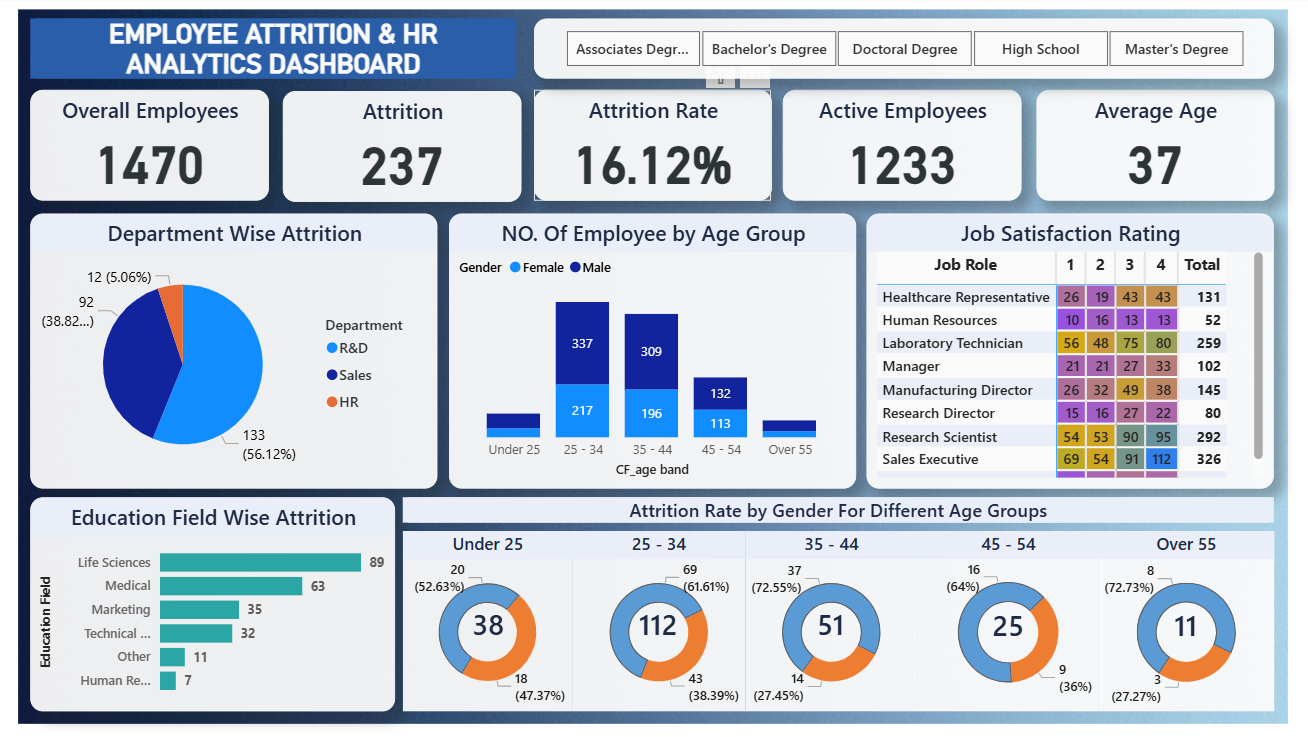

This screenshot's page, from the dashboard's own definition file:
{"tool":"powerbi","page":{"name":"Page 1","canvas":[1265,705],"ordinal":0},"visuals":[{"type":"card","title":"Overall Employees","fields":{"Values":["Sum(HR data.Employee Count)"]},"box":[43.7,88.6,225.6,105.1],"z":0},{"type":"card","title":"Attrition","fields":{"Values":["Sum(HR data.Attrition Count)"]},"box":[282.3,89.8,225.6,105.1],"z":1000},{"type":"card","title":"Attrition Rate","fields":{"Values":["HR data.Attrition Rate"]},"box":[519.8,88.6,224.4,105.1],"z":2000},{"type":"card","title":"Active Employees","fields":{"Values":["HR data.Active Employees"]},"box":[754.9,88.6,225.6,105.1],"z":3000},{"type":"card","title":"Average Age","fields":{"Values":["Avg(HR data.Age)"]},"box":[994.7,88.6,224.4,105.1],"z":4000},{"type":"pieChart","title":"Department Wise Attrition ","fields":{"Category":["HR data.Department"],"Y":["Sum(HR data.Attrition Count)"]},"box":[43.7,205.5,385.1,259.9],"z":5000},{"type":"columnChart","title":"NO. Of  Employee by Age Group","fields":{"Category":["HR data.CF_age band"],"Y":["Sum(HR data.Employee Count)"],"Series":["HR data.Gender"]},"box":[439.4,205.5,385.1,259.9],"z":6000},{"type":"pivotTable","title":"Job Satisfaction Rating","fields":{"Rows":["HR data.Job Role"],"Columns":["HR data.Job Satisfaction"],"Values":["Sum(HR data.Employee Count)"]},"box":[834,205.5,385.1,259.9],"z":7000},{"type":"barChart","title":"Education Field Wise Attrition  ","fields":{"Category":["HR data.Education Field"],"Y":["Sum(HR data.Attrition Count)"]},"box":[43.7,473.7,344.9,202],"z":8000},{"type":"donutChart","title":"Under 25","fields":{"Category":["HR data.Gender"],"Y":["Sum(HR data.Attrition Count)"],"Series":["HR data.CF_age band"]},"box":[395.7,505.6,160.7,170.1],"z":9000},{"type":"textbox","title":"Attrition Rate by Gender For Different Age Groups","box":[395.7,473.7,823.4,23.6],"z":10000},{"type":"donutChart","title":"25 - 34","fields":{"Category":["HR data.Gender"],"Y":["Sum(HR data.Attrition Count)"],"Series":["HR data.CF_age band"]},"box":[556.4,505.6,163,170.1],"z":11000},{"type":"donutChart","title":"35 - 44","fields":{"Category":["HR data.Gender"],"Y":["Sum(HR data.Attrition Count)"],"Series":["HR data.CF_age band"]},"box":[719.4,505.6,163,170.1],"z":12000},{"type":"donutChart","title":"45 - 54","fields":{"Category":["HR data.Gender"],"Y":["Sum(HR data.Attrition Count)"],"Series":["HR data.CF_age band"]},"box":[882.4,505.6,171.3,170.1],"z":13000},{"type":"donutChart","title":"Over 55","fields":{"Category":["HR data.Gender"],"Y":["Sum(HR data.Attrition Count)"],"Series":["HR data.CF_age band"]},"box":[1053.7,505.6,165.4,170.1],"z":14000},{"type":"card","fields":{"Values":["Sum(HR data.Attrition Count)"]},"box":[450.1,575.3,53.2,39],"z":15000},{"type":"card","fields":{"Values":["Sum(HR data.Attrition Count)"]},"box":[610.7,575.3,53.2,39],"z":16000},{"type":"card","fields":{"Values":["Sum(HR data.Attrition Count)"]},"box":[773.8,575.3,53.2,39],"z":17000},{"type":"card","fields":{"Values":["Sum(HR data.Attrition Count)"]},"box":[941.5,576.5,53.2,39],"z":18000},{"type":"card","fields":{"Values":["Sum(HR data.Attrition Count)"]},"box":[1109.2,576.5,53.2,39],"z":19000},{"type":"textbox","title":"EMPLOYEE ATTRITION & HR ANALYTICS DASHBOARD","box":[43.7,21.3,459.5,56.7],"z":20000},{"type":"slicer","fields":{"Values":["HR data.Education"]},"box":[519.8,21.3,699.3,56.7],"z":21000}]}

Visuals, with their boxes in screenshot pixels (x1, y1, x2, y2), scaled from the page's 1265x705 canvas onto the 1308x737 screenshot:
"Overall Employees" card: [x1=45, y1=93, x2=278, y2=202]
"Attrition" card: [x1=292, y1=94, x2=525, y2=204]
"Attrition Rate" card: [x1=537, y1=93, x2=769, y2=202]
"Active Employees" card: [x1=781, y1=93, x2=1014, y2=202]
"Average Age" card: [x1=1029, y1=93, x2=1261, y2=202]
"Department Wise Attrition " pieChart: [x1=45, y1=215, x2=443, y2=487]
"NO. Of  Employee by Age Group" columnChart: [x1=454, y1=215, x2=853, y2=487]
"Job Satisfaction Rating" pivotTable: [x1=862, y1=215, x2=1261, y2=487]
"Education Field Wise Attrition  " barChart: [x1=45, y1=495, x2=402, y2=706]
"Under 25" donutChart: [x1=409, y1=529, x2=575, y2=706]
"Attrition Rate by Gender For Different Age Groups" textbox: [x1=409, y1=495, x2=1261, y2=520]
"25 - 34" donutChart: [x1=575, y1=529, x2=744, y2=706]
"35 - 44" donutChart: [x1=744, y1=529, x2=912, y2=706]
"45 - 54" donutChart: [x1=912, y1=529, x2=1090, y2=706]
"Over 55" donutChart: [x1=1090, y1=529, x2=1261, y2=706]
card - Sum(HR data.Attrition Count): [x1=465, y1=601, x2=520, y2=642]
card - Sum(HR data.Attrition Count): [x1=631, y1=601, x2=686, y2=642]
card - Sum(HR data.Attrition Count): [x1=800, y1=601, x2=855, y2=642]
card - Sum(HR data.Attrition Count): [x1=974, y1=603, x2=1029, y2=643]
card - Sum(HR data.Attrition Count): [x1=1147, y1=603, x2=1202, y2=643]
"EMPLOYEE ATTRITION & HR ANALYTICS DASHBOARD" textbox: [x1=45, y1=22, x2=520, y2=82]
slicer - HR data.Education: [x1=537, y1=22, x2=1261, y2=82]
